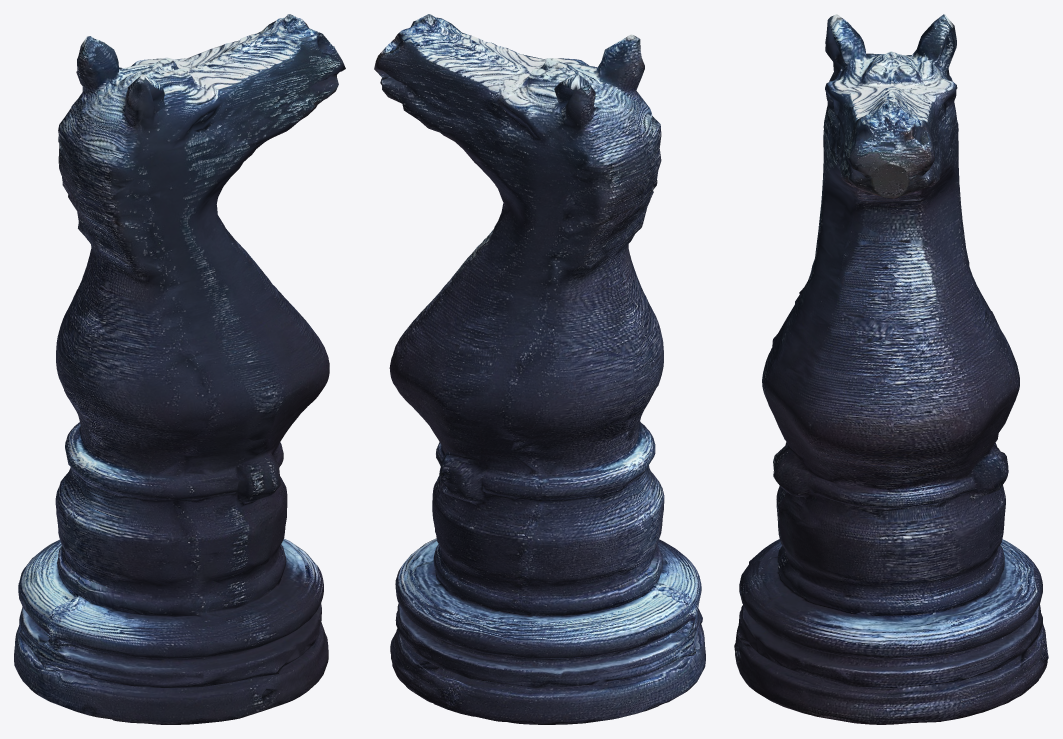
Rendered from knight.glb.
3 views of the same model, side by side, from view 1: azimuth 30°, elevation 25°; view 2: azimuth 150°, elevation 25°; view 3: azimuth 270°, elevation 25° (orthographic).
Parts seen in each view (by area): view 1: tripo_node_7a7dfcda-6f7a-4b46-acb2-42e897712bc1; view 2: tripo_node_7a7dfcda-6f7a-4b46-acb2-42e897712bc1; view 3: tripo_node_7a7dfcda-6f7a-4b46-acb2-42e897712bc1.
Part boxes in pixels (x1,y1,x2,y2): tripo_node_7a7dfcda-6f7a-4b46-acb2-42e897712bc1: (14, 14, 345, 724); tripo_node_7a7dfcda-6f7a-4b46-acb2-42e897712bc1: (374, 14, 705, 724); tripo_node_7a7dfcda-6f7a-4b46-acb2-42e897712bc1: (734, 14, 1048, 724).
Size of the model in its own units: 0.4883 by 0.9775 by 0.4518.
Materials: 1 (1 with a texture image).
